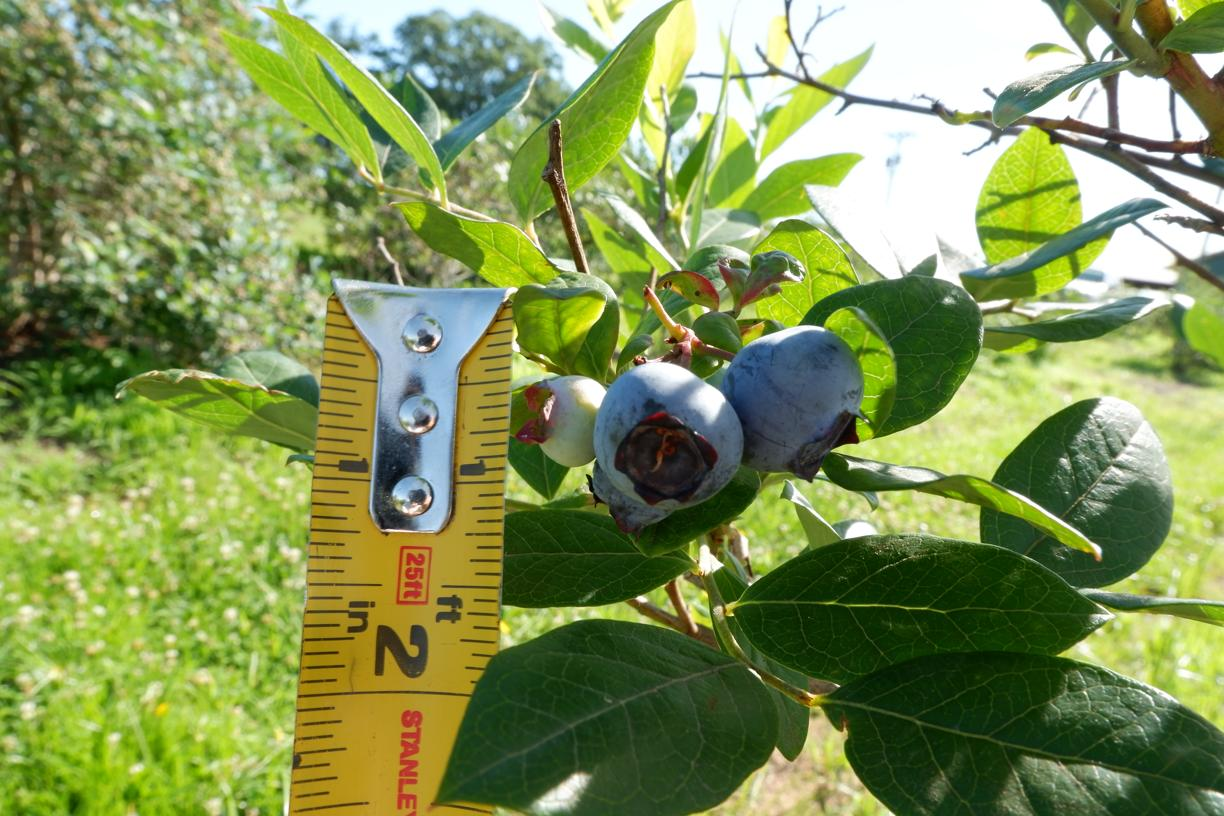Immature: (515, 375, 607, 468)
Mature: (719, 325, 871, 483), (591, 361, 745, 512), (586, 459, 675, 542)
